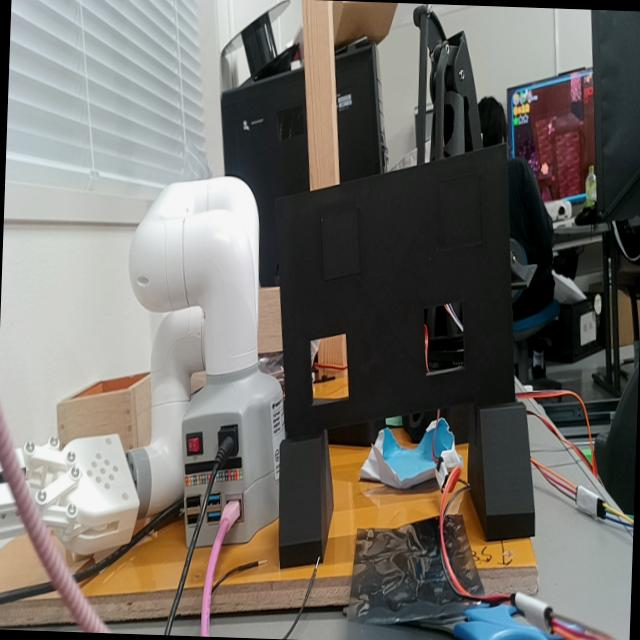Obstacle: (423, 301, 463, 374), (309, 335, 349, 407)
Wall: (277, 143, 515, 439)
